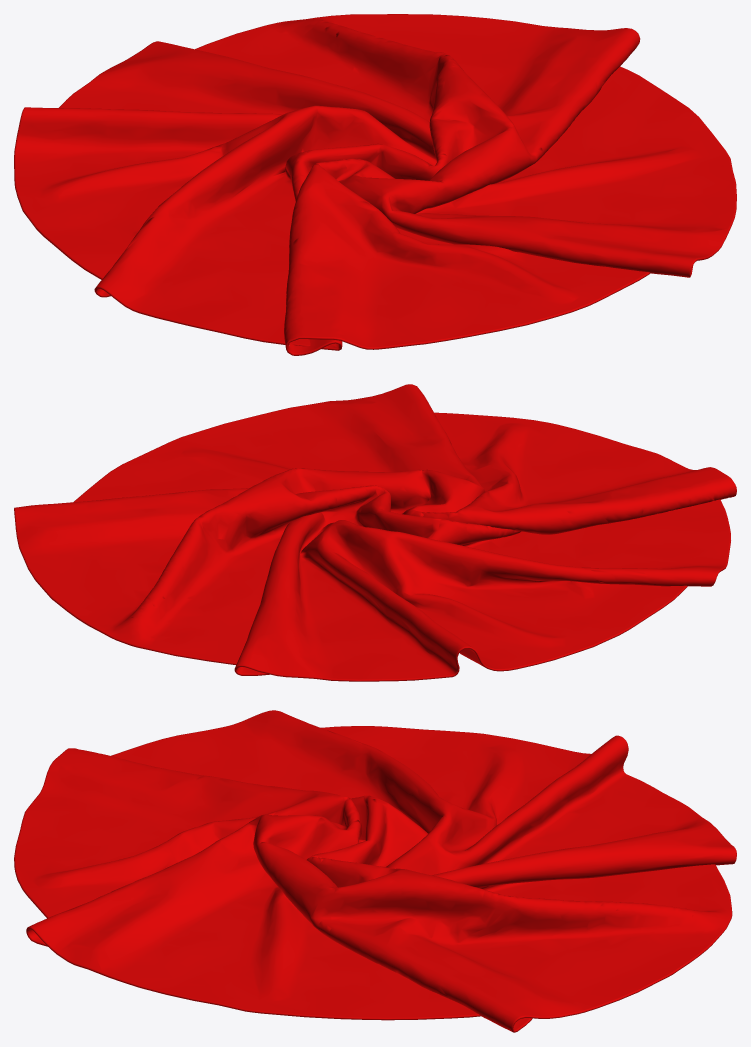
The picture shows the model from 3 angles, top to bottom: view 1: azimuth 30°, elevation 25°; view 2: azimuth 150°, elevation 25°; view 3: azimuth 270°, elevation 25°; orthographic projection. The views are drawn at different scales.
Visible parts, largest first — view 1: MatPreviewMesh-Corduroy_SM_LOD0; view 2: MatPreviewMesh-Corduroy_SM_LOD0; view 3: MatPreviewMesh-Corduroy_SM_LOD0.
Part boxes in pixels (<box>): MatPreviewMesh-Corduroy_SM_LOD0: <box>14,14,736,355</box>; MatPreviewMesh-Corduroy_SM_LOD0: <box>14,384,736,681</box>; MatPreviewMesh-Corduroy_SM_LOD0: <box>14,710,736,1032</box>.
Size of what is drawn, in the model's own units: 1.58 by 0.1282 by 1.54.
